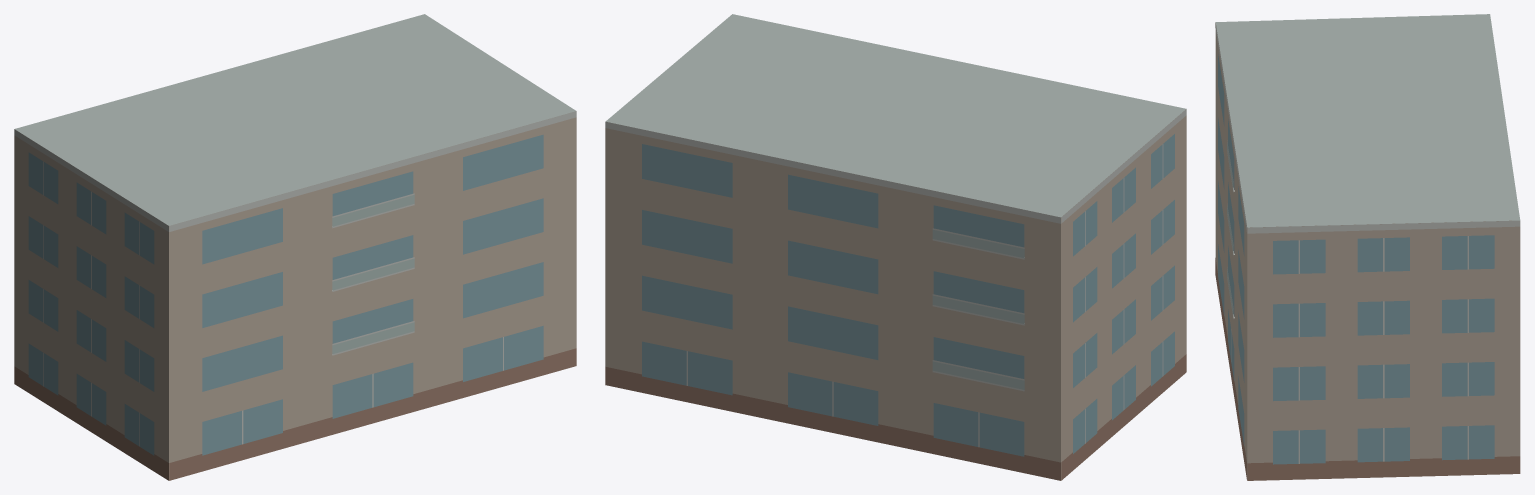
Rendered from survey-upis-33025605.glb.
The picture shows the model from 3 angles, left to right: view 1: azimuth 30°, elevation 25°; view 2: azimuth 150°, elevation 25°; view 3: azimuth 270°, elevation 25°; orthographic projection. The views are drawn at different scales.
Parts seen in each view (by area): view 1: survey-upis-33025605.tmp; view 2: survey-upis-33025605.tmp; view 3: survey-upis-33025605.tmp.
Boxes of the visible parts, bbox=[...] form: survey-upis-33025605.tmp: bbox=[14, 14, 576, 480]; survey-upis-33025605.tmp: bbox=[605, 14, 1186, 480]; survey-upis-33025605.tmp: bbox=[1215, 14, 1520, 480].
Size of the model in its own units: 18.08 by 10 by 10.91.
